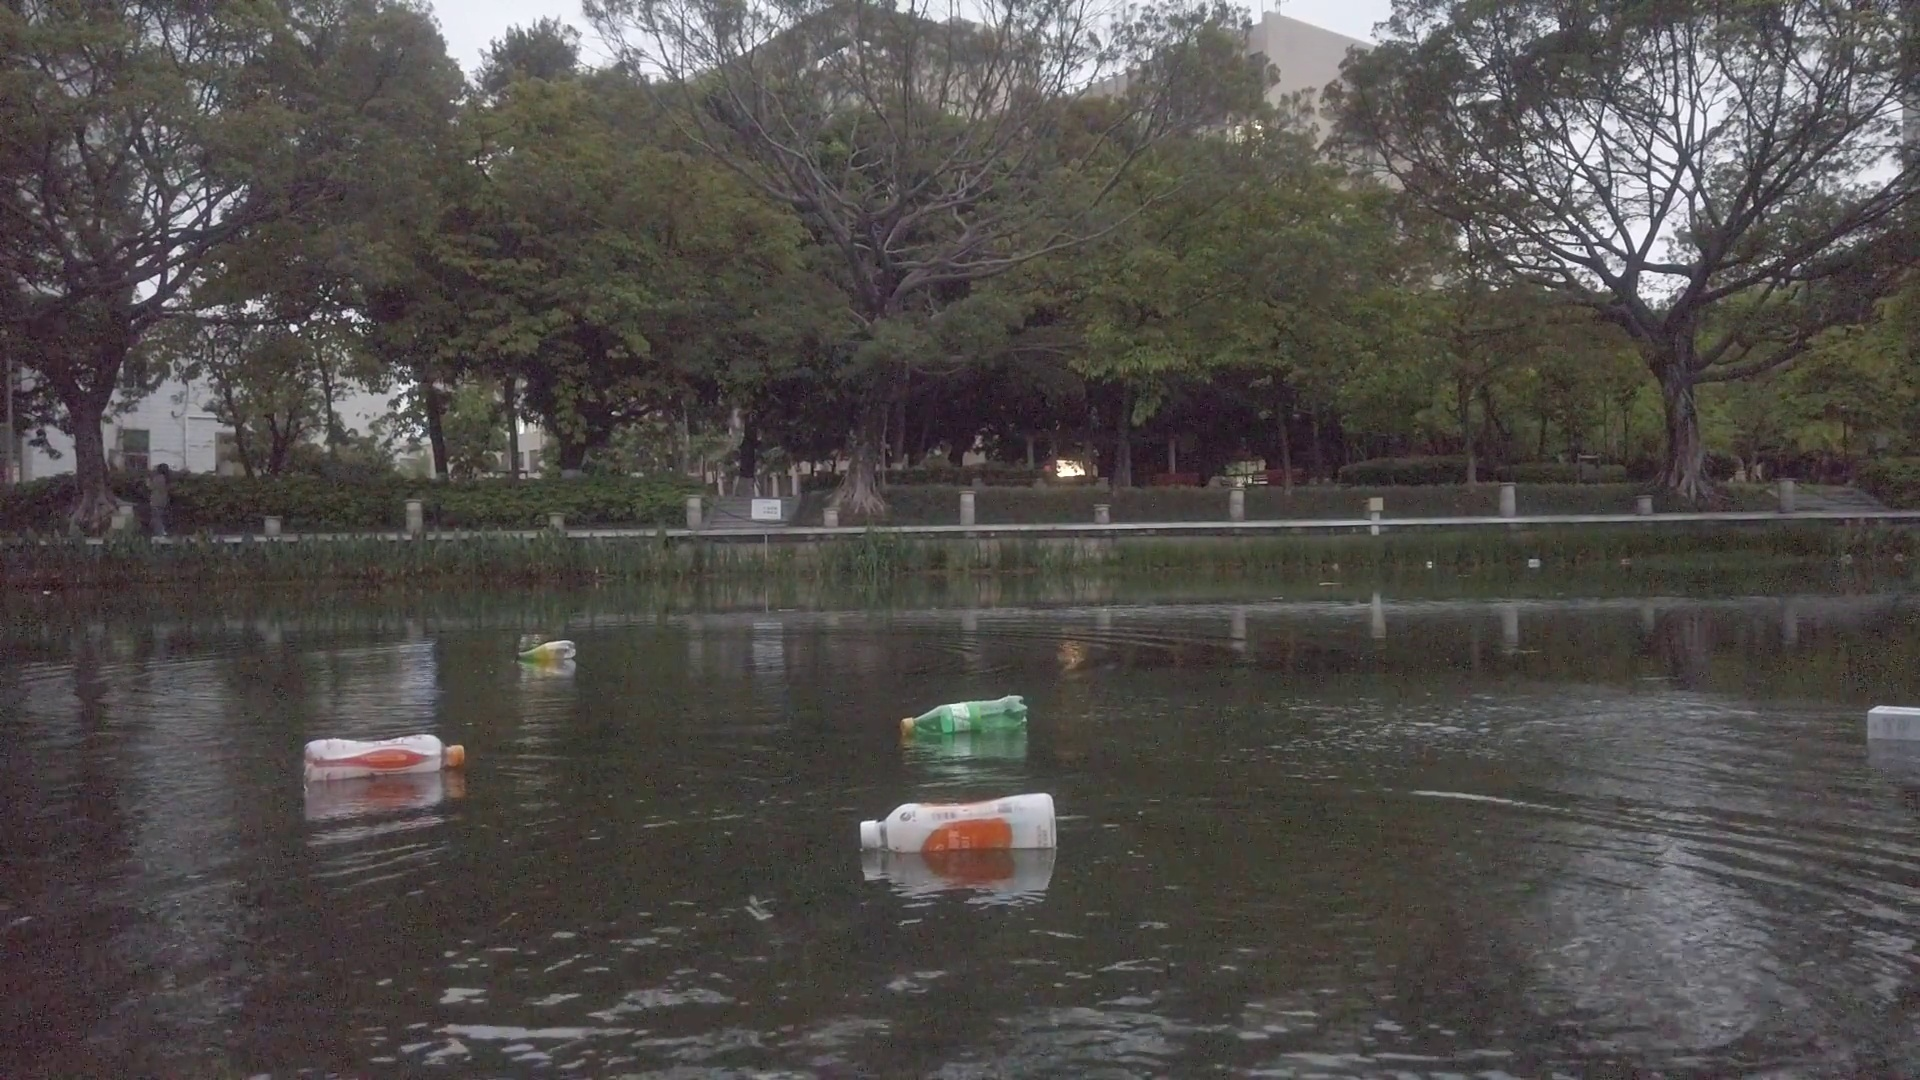bottle: (861, 793, 1064, 855), (301, 732, 467, 775), (901, 694, 1034, 738), (516, 642, 578, 669)
carton: (1869, 698, 1916, 752), (1530, 555, 1542, 566)
